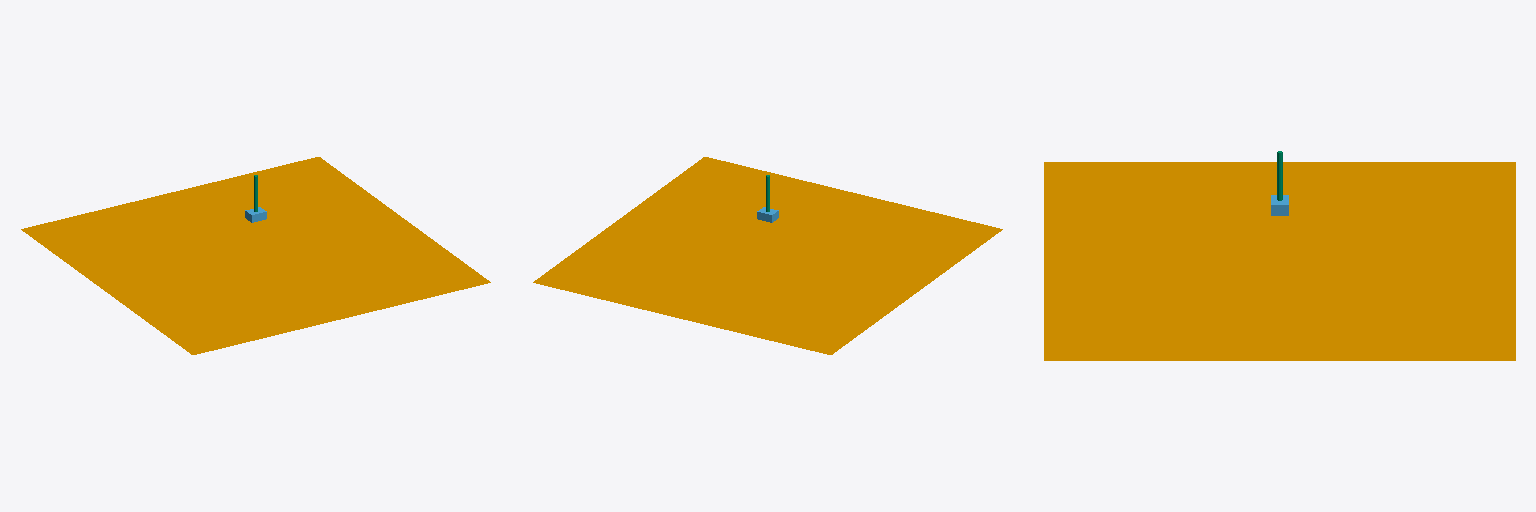
robot.urdf — cartpole2:
<?xml version="1.0" encoding="UTF-8"?>
<robot name="cartpole2">
  <joint name="hinge_1" type="continuous">
    <origin xyz="0. 0. 0." rpy="0. 0. 1.5707964"/>
    <parent link="cartpole_cart_cart"/>
    <child link="cartpole_cart_pole_1"/>
    <axis xyz="1. 0. 0."/>
  </joint>
  <joint name="slider" type="prismatic">
    <origin xyz="0. 0. 1." rpy="0. 0. 0."/>
    <parent link="Root"/>
    <child link="cartpole_cart_cart"/>
    <axis xyz="1. 0. 0."/>
    <limit lower="-1.8" upper="1.8" effort="0." velocity="1000000."/>
  </joint>
  <link name="Root">
    <visual>
      <origin xyz="0. 0. -0.05" rpy="0. 0. 0."/>
      <geometry>
        <mesh filename="meshes/worldBody_floor_visuals_floor.obj" scale="1. 1. 1."/>
      </geometry>
    </visual>
  </link>
  <link name="cartpole_cart_cart">
    <visual>
      <origin xyz="0. 0. 0." rpy="0. 0. 0."/>
      <geometry>
        <box size="0.4 0.3 0.2"/>
      </geometry>
    </visual>
    <collision>
      <origin xyz="0. 0. 0." rpy="0. 0. 0."/>
      <geometry>
        <box size="0.4 0.3 0.2"/>
      </geometry>
    </collision>
  </link>
  <link name="cartpole_cart_pole_1">
    <visual>
      <origin xyz="0. 0. 0.5" rpy="0. 0. -1.5707964"/>
      <geometry>
        <cylinder radius="0.045" length="1."/>
      </geometry>
    </visual>
    <collision>
      <origin xyz="0. 0. 0.5" rpy="0. 0. -1.5707964"/>
      <geometry>
        <cylinder radius="0.045" length="1."/>
      </geometry>
    </collision>
  </link>
</robot>

--- What the picture shows (computed from the rendered views, not written in the file) ---
Views: 3 orthographic renders of the robot side by side, from view 1: azimuth 30°, elevation 25°; view 2: azimuth 150°, elevation 25°; view 3: azimuth 270°, elevation 25°.
Model cartpole2 with 3 links and 2 joints (1 continuous, 1 prismatic), rooted at Root, posed every joint at zero.
Visible links, largest first — view 1: Root; view 2: Root; view 3: Root.
Link boxes in pixels (<box>): Root: <box>21,157,490,354</box>; Root: <box>533,157,1002,354</box>; Root: <box>1044,162,1515,360</box>.
Bounding box of the posed robot: 8 × 8 × 2.05 m (x, y, z).
1 mesh visuals loaded from 1 distinct referenced files (1 OBJ).
